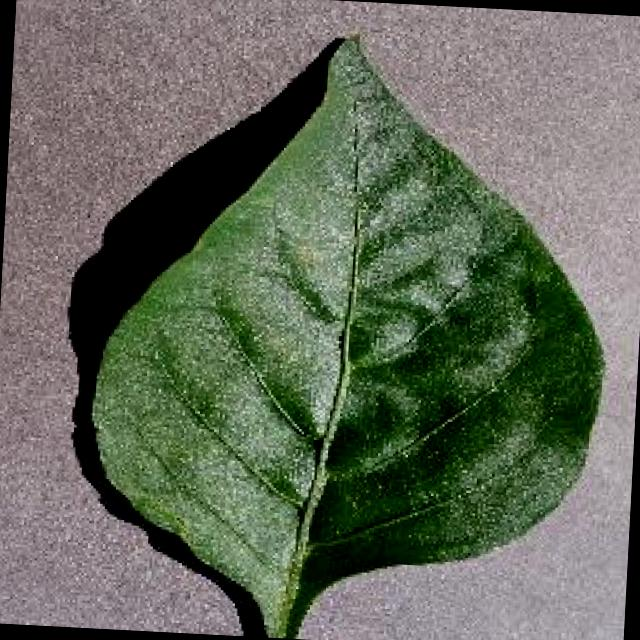Leaf: (63, 13, 640, 636)
